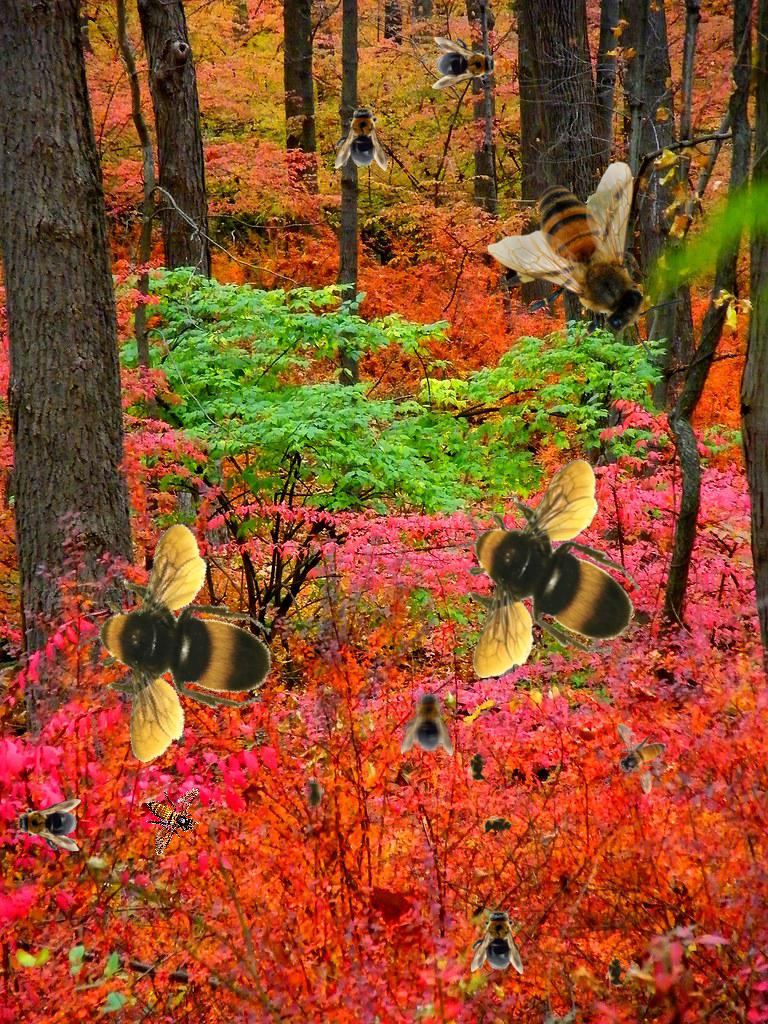Bee: (50, 505, 298, 772), (450, 458, 641, 678), (487, 161, 686, 365), (129, 774, 217, 857), (616, 723, 666, 794), (471, 906, 523, 974), (401, 688, 453, 756), (13, 799, 81, 851), (432, 37, 500, 89), (335, 103, 387, 171), (477, 814, 519, 838), (303, 775, 325, 815), (605, 952, 627, 992), (467, 747, 489, 787)
